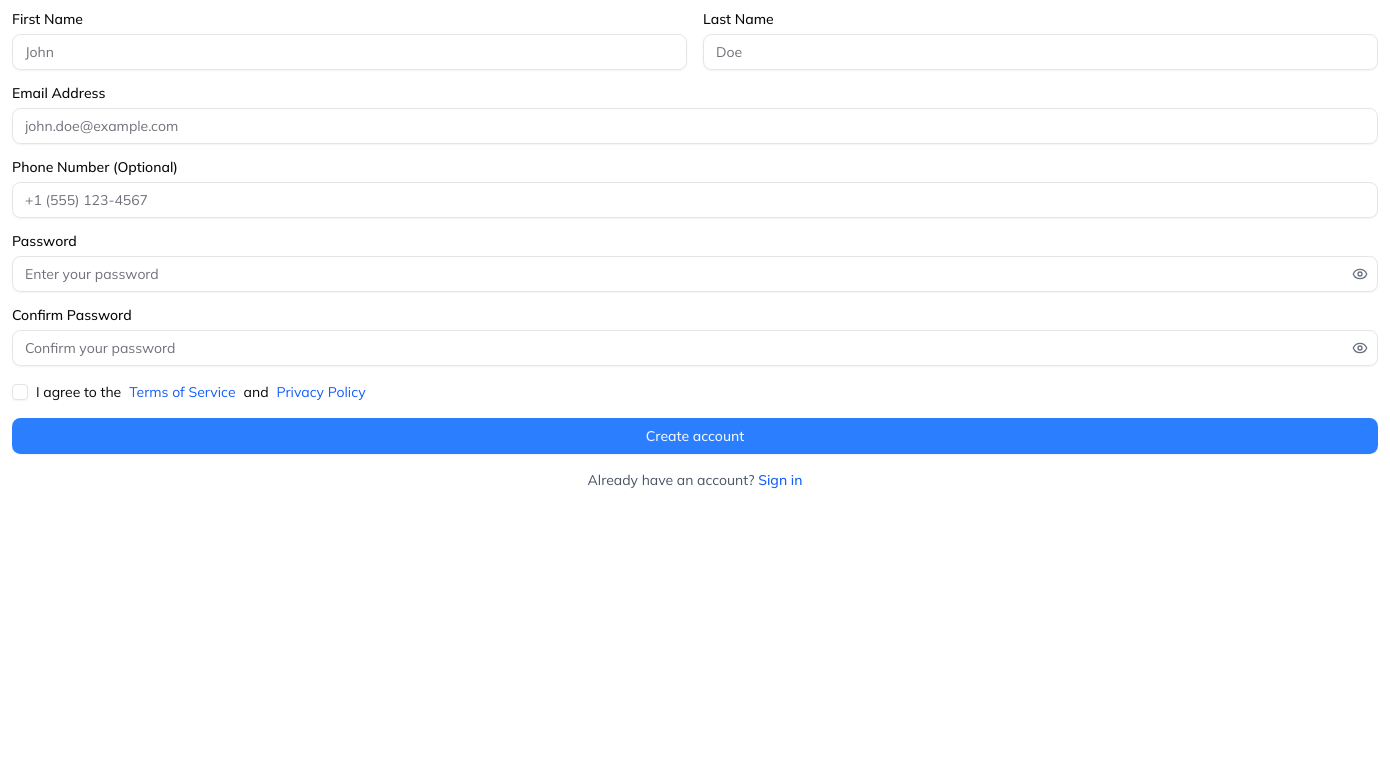
Test case: RegisterForm › should validate phone number format
Type "123" into the field labelled "Phone Number (Optional)" at coordinates (695, 200), box [12, 182, 1378, 218]
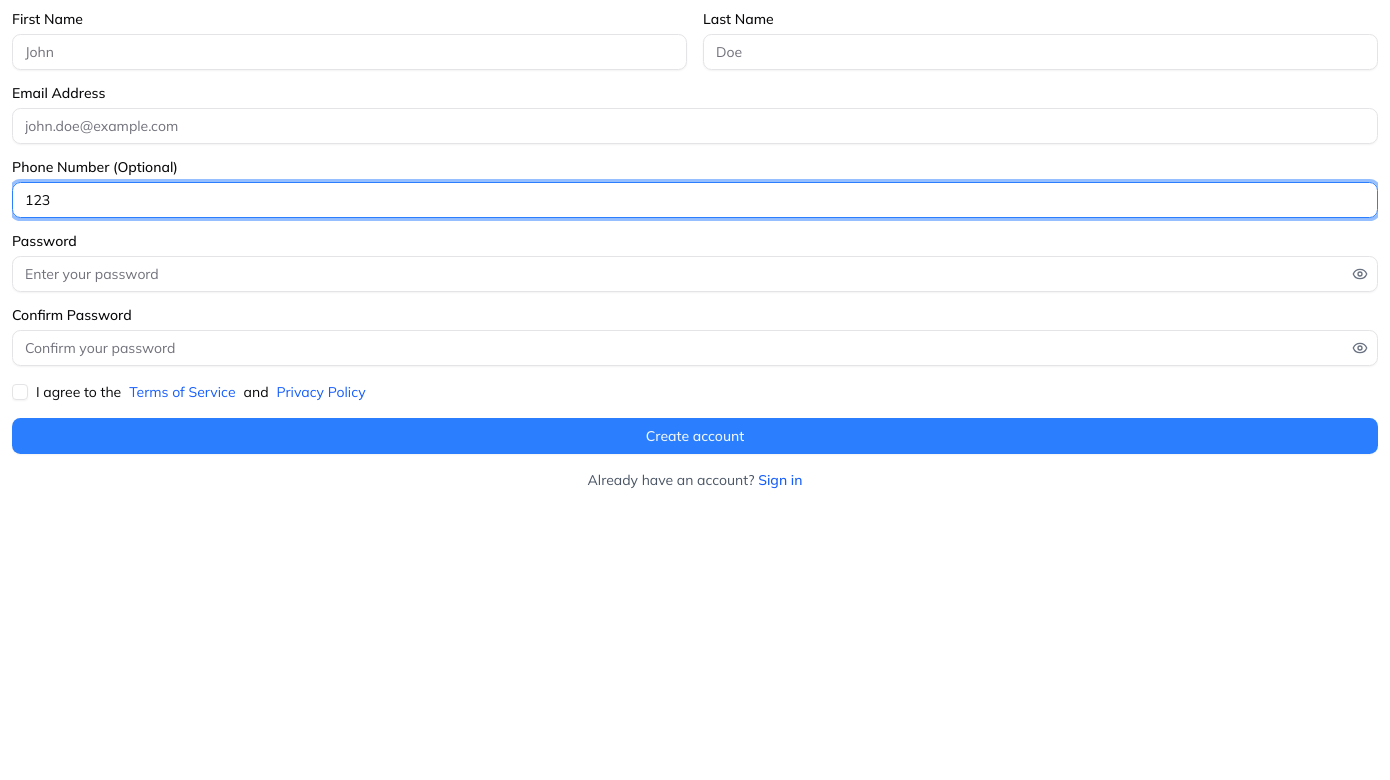
Click the button "Create account" at coordinates (695, 436), box [12, 418, 1378, 454]
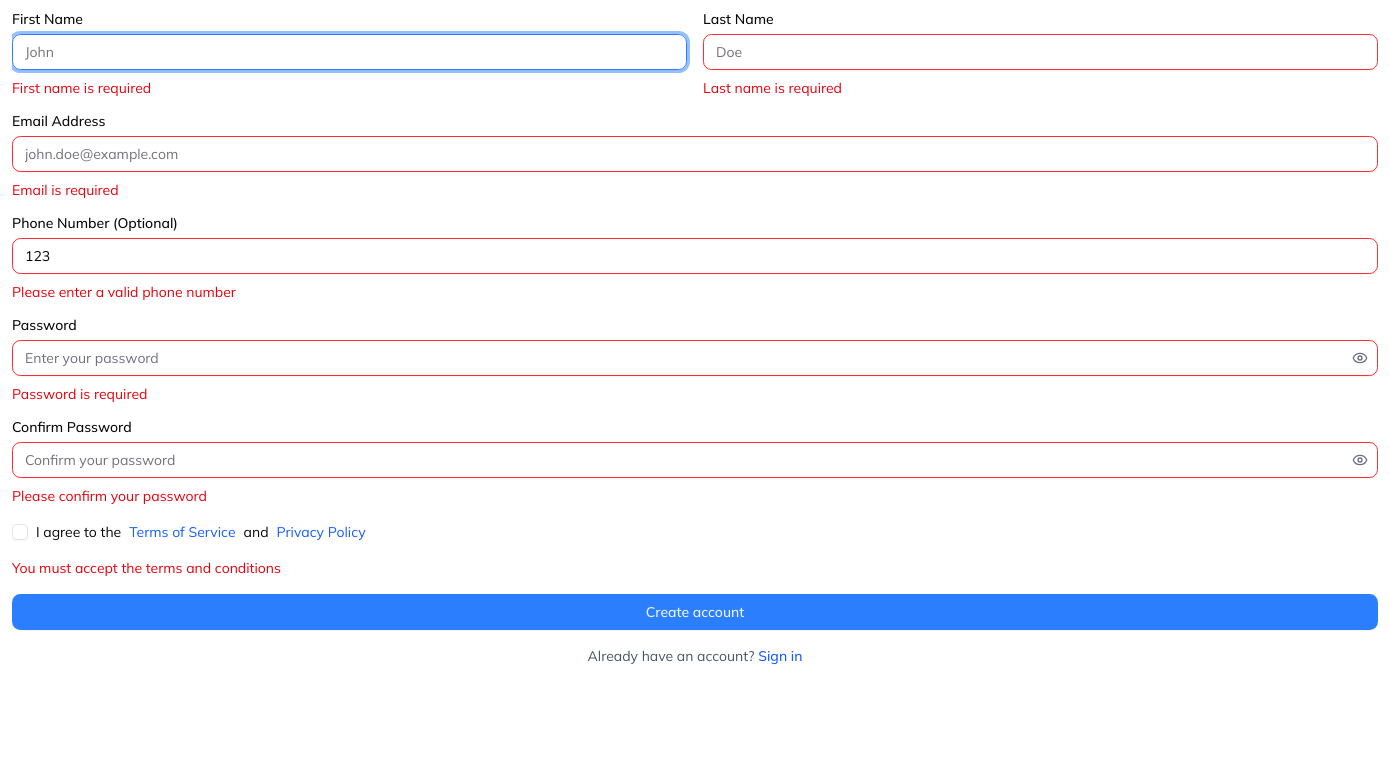
expect the text "Please enter a valid phone number" is shown: met, box [12, 283, 236, 301]
